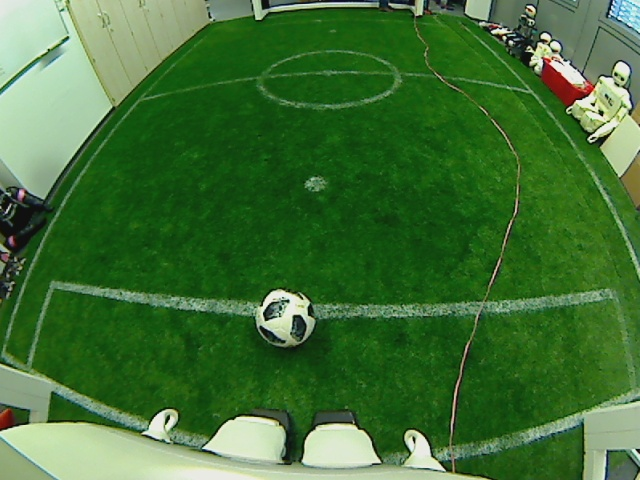ball: (253, 286, 320, 351)
